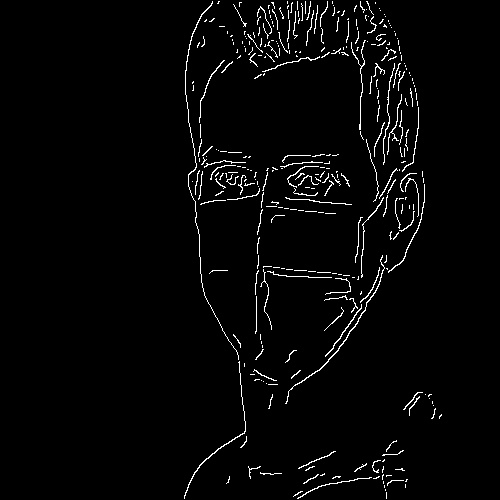mask: (192, 197, 367, 379)
